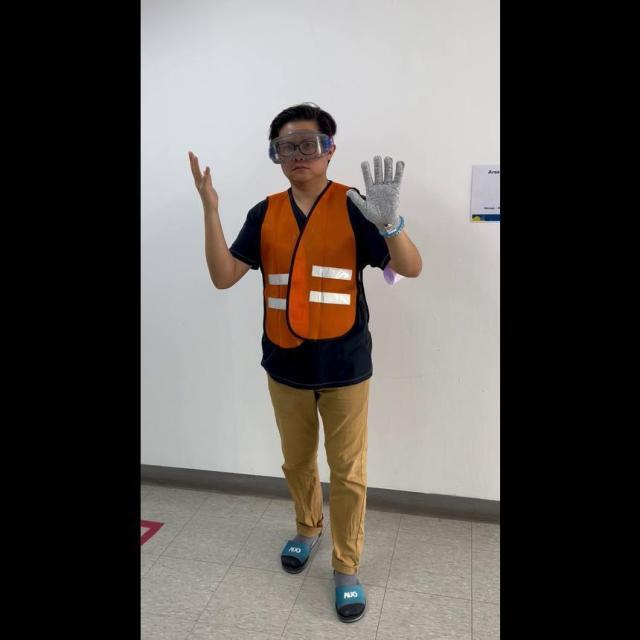bare_hand: (185, 144, 220, 223)
gloved_hand: (347, 149, 406, 234)
